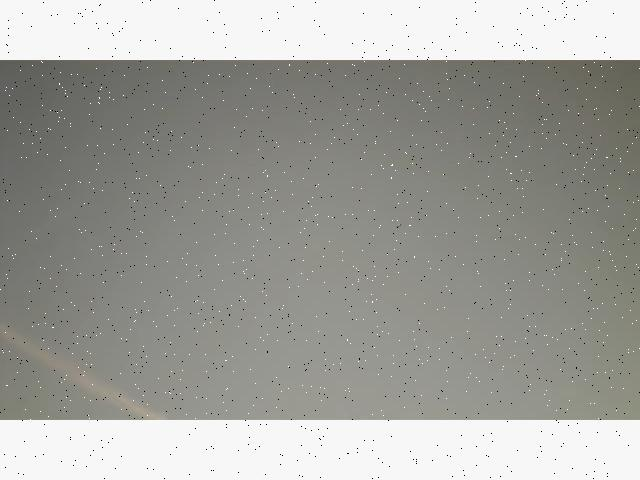Anti-Drone: (390, 214, 410, 235)
